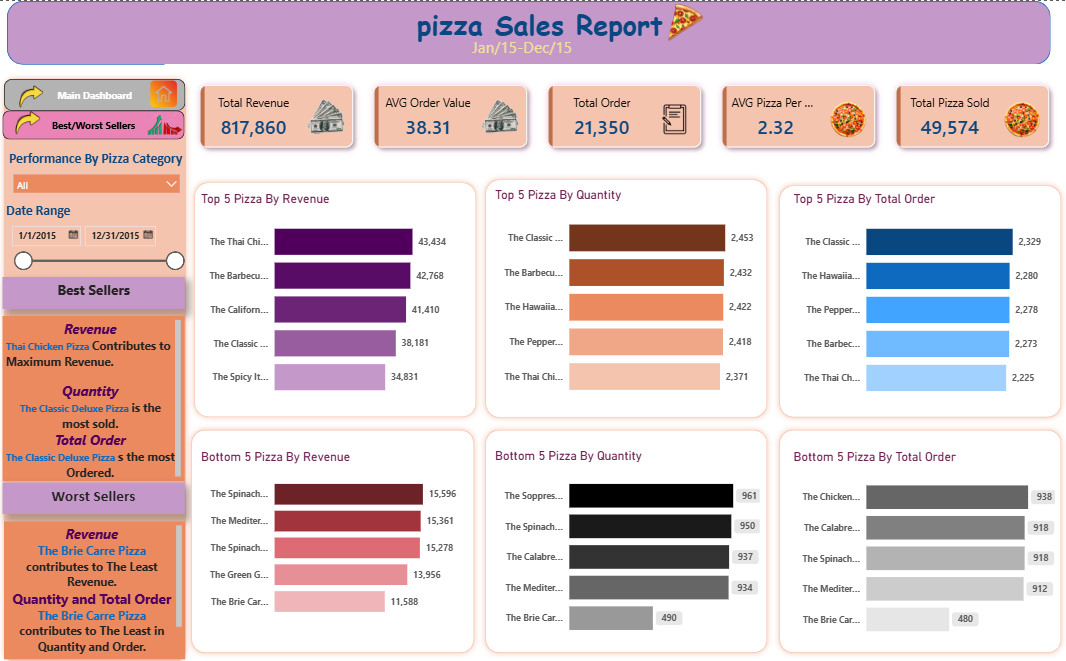

The page's visual inventory and layout, read from the dashboard file:
{"tool":"powerbi","page":{"name":"Best/Worst Sellers","canvas":[1500,920],"ordinal":1},"visuals":[{"type":"shape","box":[11.4,0,1439.6,87.8],"z":0},{"type":"textbox","box":[461.4,0,531.7,72.4],"z":1000},{"type":"textbox","box":[618.6,43.4,209,55.9],"z":2000},{"type":"image","box":[882.2,0,131.1,60],"z":3000},{"type":"cardVisual","fields":{"Data":["pizza_sales.Total_Revenue","pizza_sales.AVG_Order_Value","pizza_sales.Total_Order","pizza_sales.AVG_Pizza_Per_Order","pizza_sales.Total_Pizza_Sold"]},"box":[230.2,87.8,1269.8,144.8],"z":4000},{"type":"shape","box":[0,100,267,820],"z":5000},{"type":"textbox","box":[7,380,251,44],"z":6000},{"type":"textbox","box":[7,435,251,228],"z":7000},{"type":"textbox","box":[6.7,663.3,251.1,43.3],"z":8000},{"type":"textbox","box":[7.5,717.5,250,190],"z":9000},{"type":"slicer","title":"Performance By Pizza Category","fields":{"Values":["pizza_sales.pizza_category"]},"box":[11,205,251,65],"z":10000},{"type":"slicer","title":"Date Range","fields":{"Values":["pizza_sales.order_date"]},"box":[7,278,259,97],"z":11000},{"type":"shape","box":[1070,246.2,405,336.2],"z":12000},{"type":"shape","box":[665,237.5,405,345],"z":13000},{"type":"shape","box":[1070,582.5,405,323.8],"z":14000},{"type":"shape","box":[665,582.5,405,323.8],"z":15000},{"type":"barChart","title":"Bottom 5 Pizza By Quantity","fields":{"Category":["pizza_sales.pizza_name"],"Y":["pizza_sales.Total Pizza Sold"]},"box":[681.2,617.5,375,273.8],"z":17000},{"type":"barChart","title":"Top 5 Pizza By Quantity","fields":{"Category":["pizza_sales.pizza_name"],"Y":["pizza_sales.Total Pizza Sold"]},"box":[681.2,257.5,375,305],"z":18000},{"type":"barChart","title":"Bottom 5 Pizza By Total Order","fields":{"Category":["pizza_sales.pizza_name"],"Y":["pizza_sales.Total Order"]},"box":[1092.2,617.8,370,273.3],"z":20000},{"type":"barChart","title":"Top 5 Pizza By Total  Order","fields":{"Category":["pizza_sales.pizza_name"],"Y":["pizza_sales.Total Order"]},"box":[1092.5,262.5,370,300],"z":21000},{"type":"pageNavigator","box":[9,107,250,44],"z":22000},{"type":"pageNavigator","box":[7,151,251,40],"z":23000},{"type":"image","box":[11,144,61,47],"z":24000},{"type":"image","box":[18,109,54,45],"z":25000},{"type":"image","box":[205.6,110,47.8,36.7],"z":26000},{"type":"shape","box":[258.8,582.5,406.2,323.8],"z":28000},{"type":"shape","box":[262.5,242.5,405,340],"z":29000},{"type":"image","box":[174,144,112,52],"z":29500},{"type":"barChart","title":"Top 5 Pizza By Revenue","fields":{"Category":["pizza_sales.pizza_name"],"Y":["pizza_sales.Total Revenue"]},"box":[275,263.8,373.8,298.8],"z":30000},{"type":"barChart","title":"Bottom 5 Pizza By Revenue","fields":{"Category":["pizza_sales.pizza_name"],"Y":["pizza_sales.Total Revenue"]},"box":[275.6,617.8,373.3,244.4],"z":30500}]}

Visuals, with their boxes in screenshot pixels (x1, y1, x2, y2), scaled from the page's 1500x920 canvas onto the 1066x661 screenshot:
shape: select_region(8, 0, 1031, 63)
textbox: select_region(328, 0, 706, 52)
textbox: select_region(440, 31, 588, 71)
image: select_region(627, 0, 720, 43)
cardVisual - pizza_sales.Total_Revenue x pizza_sales.AVG_Order_Value: select_region(164, 63, 1065, 167)
shape: select_region(0, 72, 190, 660)
textbox: select_region(5, 273, 183, 305)
textbox: select_region(5, 313, 183, 476)
textbox: select_region(5, 477, 183, 508)
textbox: select_region(5, 516, 183, 652)
"Performance By Pizza Category" slicer: select_region(8, 147, 186, 194)
"Date Range" slicer: select_region(5, 200, 189, 269)
shape: select_region(760, 177, 1048, 418)
shape: select_region(473, 171, 760, 419)
shape: select_region(760, 419, 1048, 651)
shape: select_region(473, 419, 760, 651)
"Bottom 5 Pizza By Quantity" barChart: select_region(484, 444, 751, 640)
"Top 5 Pizza By Quantity" barChart: select_region(484, 185, 751, 404)
"Bottom 5 Pizza By Total Order" barChart: select_region(776, 444, 1039, 640)
"Top 5 Pizza By Total  Order" barChart: select_region(776, 189, 1039, 404)
pageNavigator: select_region(6, 77, 184, 108)
pageNavigator: select_region(5, 108, 183, 137)
image: select_region(8, 103, 51, 137)
image: select_region(13, 78, 51, 111)
image: select_region(146, 79, 180, 105)
shape: select_region(184, 419, 473, 651)
shape: select_region(187, 174, 474, 419)
image: select_region(124, 103, 203, 141)
"Top 5 Pizza By Revenue" barChart: select_region(195, 190, 461, 404)
"Bottom 5 Pizza By Revenue" barChart: select_region(196, 444, 461, 619)
